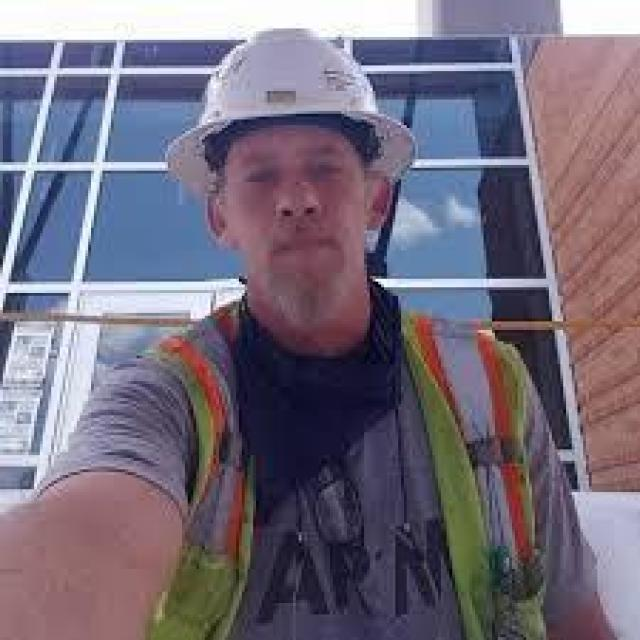helmet: (165, 26, 418, 190)
